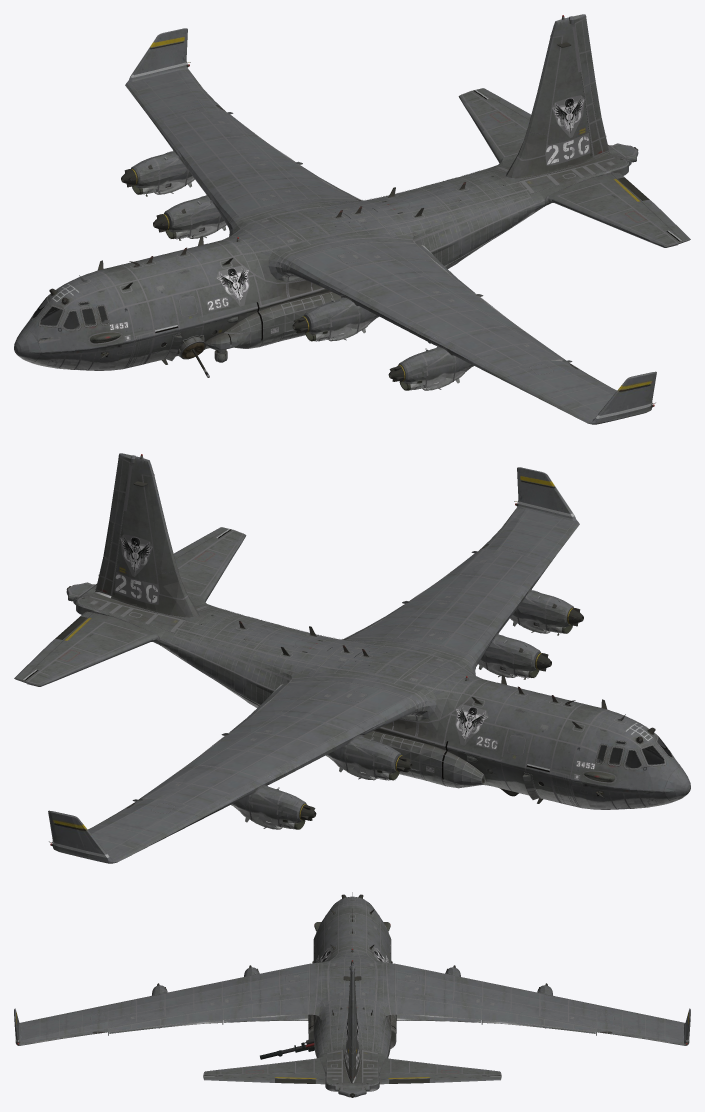
File: veh_ac130.glb
3 renders of one model, top to bottom at view 1: azimuth 30°, elevation 25°; view 2: azimuth 150°, elevation 25°; view 3: azimuth 270°, elevation 25°, orthographic. The views are drawn at different scales.
Parts seen in each view (by area): view 1: hull; view 2: hull; view 3: hull.
Boxes of the visible parts, left/top/right/bottom form: hull: left=14, top=14, right=690, bottom=424; hull: left=14, top=453, right=690, bottom=863; hull: left=14, top=892, right=690, bottom=1097.
Size of the model in its own units: 113 by 42.59 by 148.
Materials: 5 (5 with a texture image).
